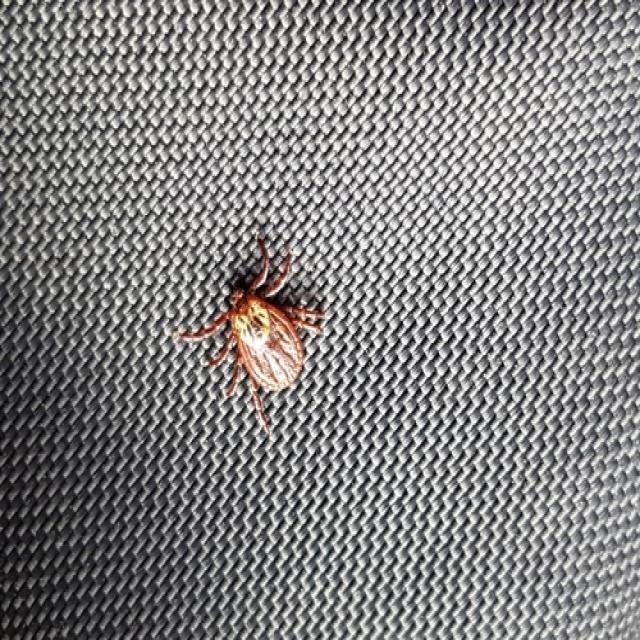Dermacentor Reticulatus-F: (174, 236, 324, 434)
